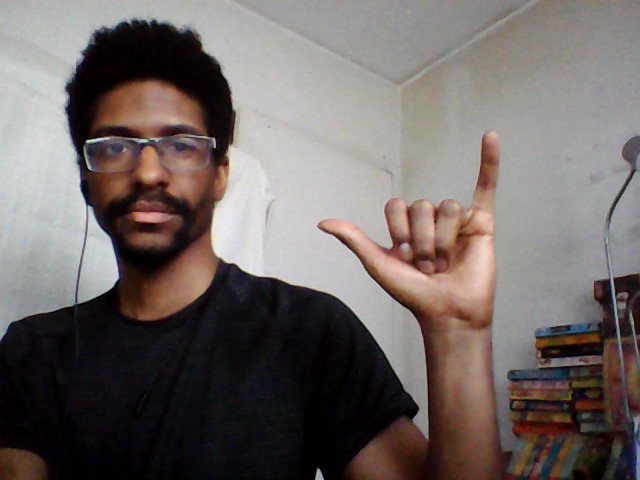y: (309, 124, 507, 328)
